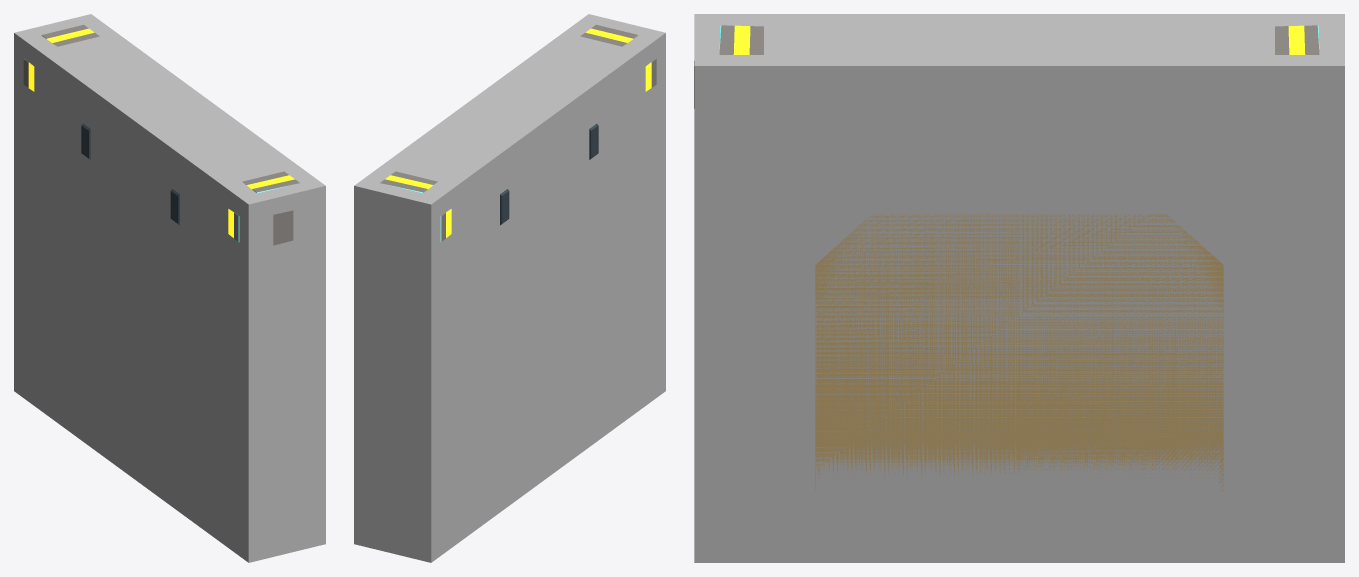
The picture shows the model from 3 angles, left to right: view 1: azimuth 30°, elevation 25°; view 2: azimuth 150°, elevation 25°; view 3: azimuth 270°, elevation 25°; orthographic projection. The views are drawn at different scales.
Parts seen in each view (by area): view 1: SM_TV_03_ConvexHulls, SM_TV_03; view 2: SM_TV_03_ConvexHulls, SM_TV_03; view 3: SM_TV_03_ConvexHulls, SM_TV_03.
Boxes of the visible parts, x1,y1,x2,y2 form: SM_TV_03_ConvexHulls: (14,14,325,562); SM_TV_03: (23,24,299,245); SM_TV_03_ConvexHulls: (354,14,665,562); SM_TV_03: (380,24,656,241); SM_TV_03_ConvexHulls: (694,14,1344,562); SM_TV_03: (694,25,1319,493).
Bounding box in the file's own units: 23.91 × 124 × 104.
2 materials, 1 textured.
